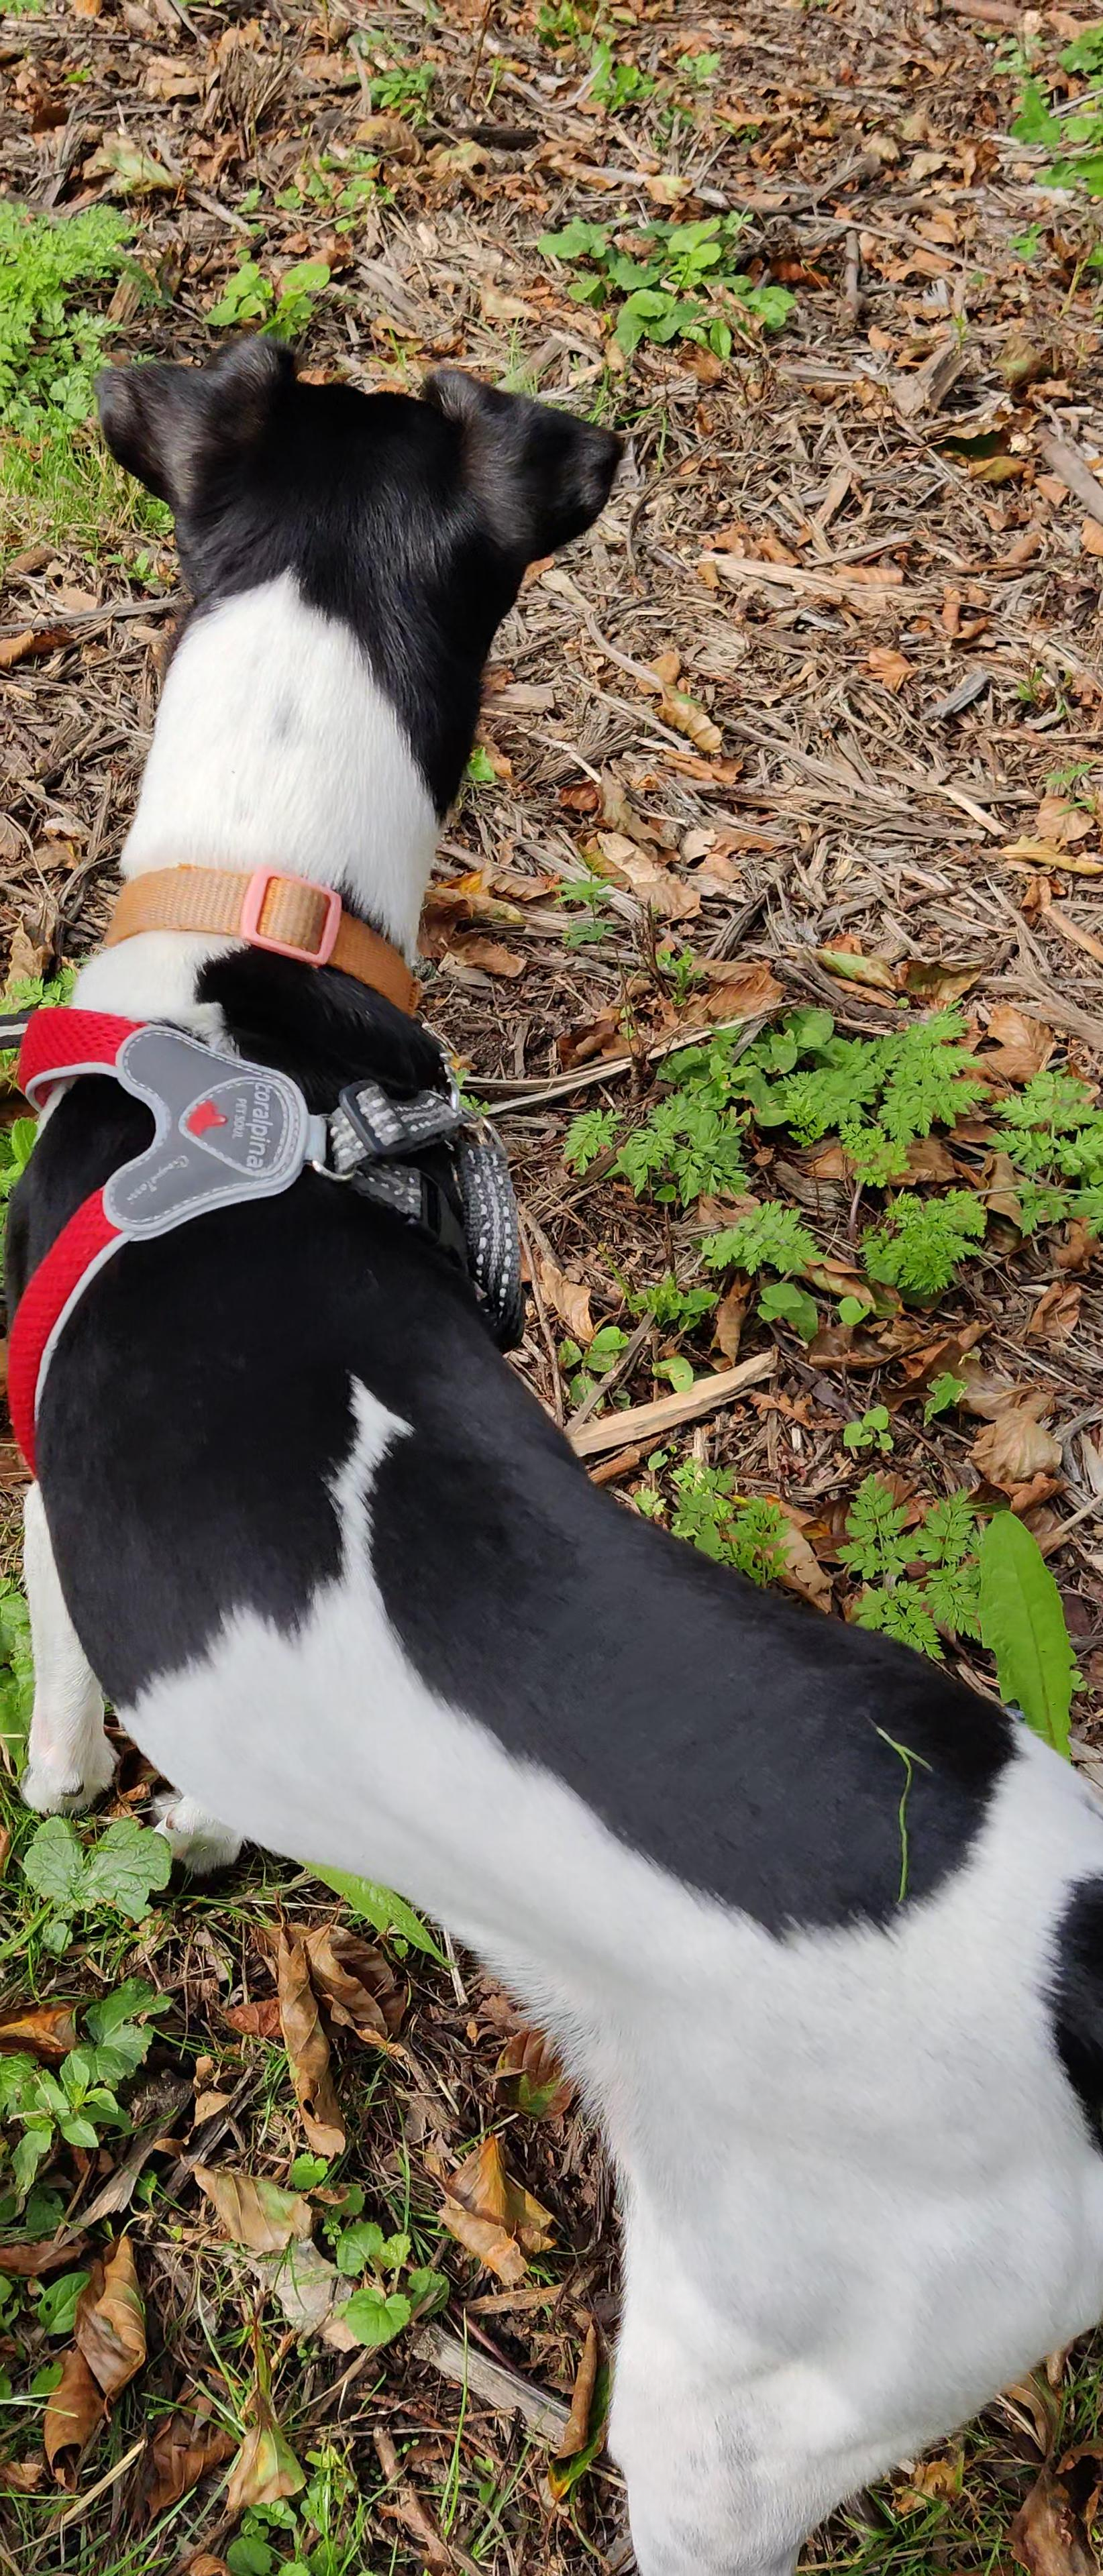Dog: (0, 319, 1103, 2576)
